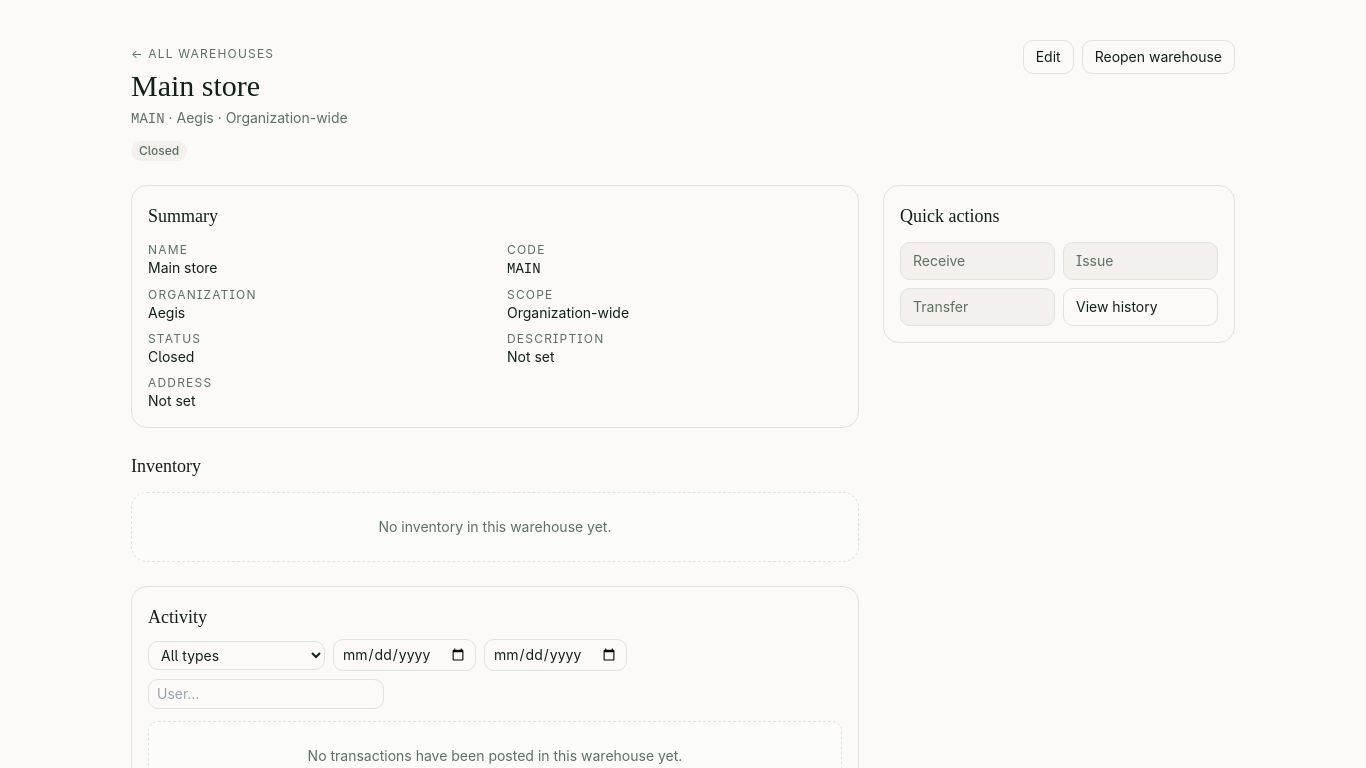
Test: Warehouse edit / close / reopen › reopen flow: closed warehouse can be reopened via PATCH
Click the button with test id "warehouse-header-reopen" at coordinates (1158, 57), box [1082,40,1235,74]
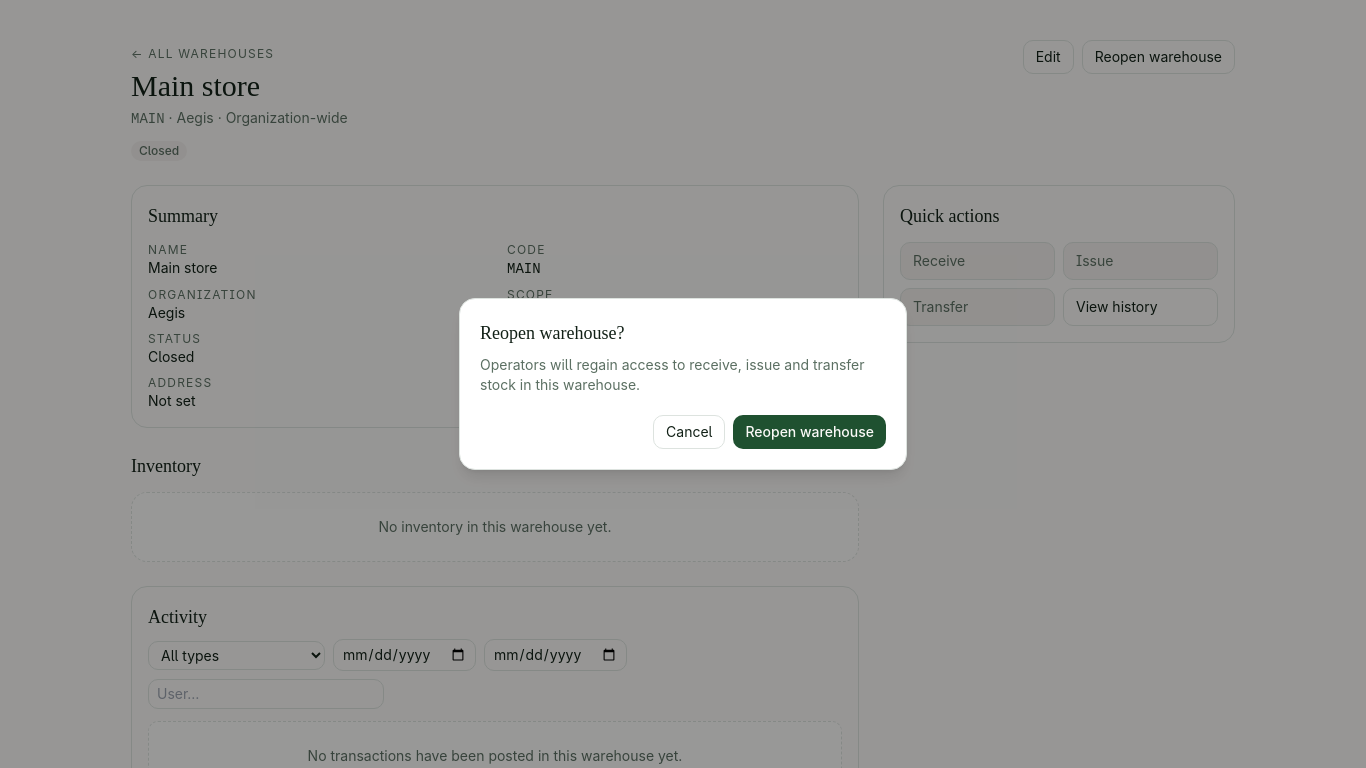
Click the button with test id "warehouse-detail-status-confirm-confirm" at coordinates (810, 432), box [733,415,886,449]
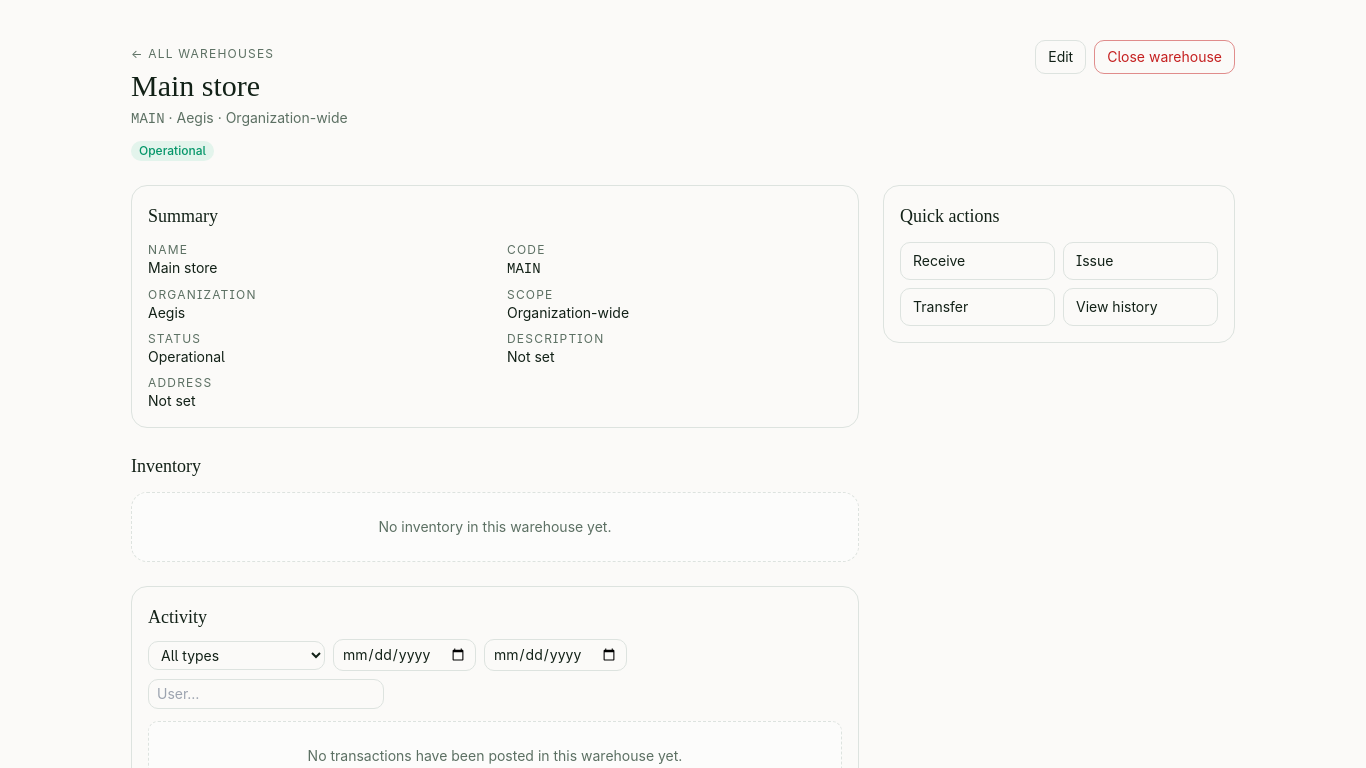
expect the button with test id "warehouse-header-close" is shown: met, box [1094,40,1235,74]
